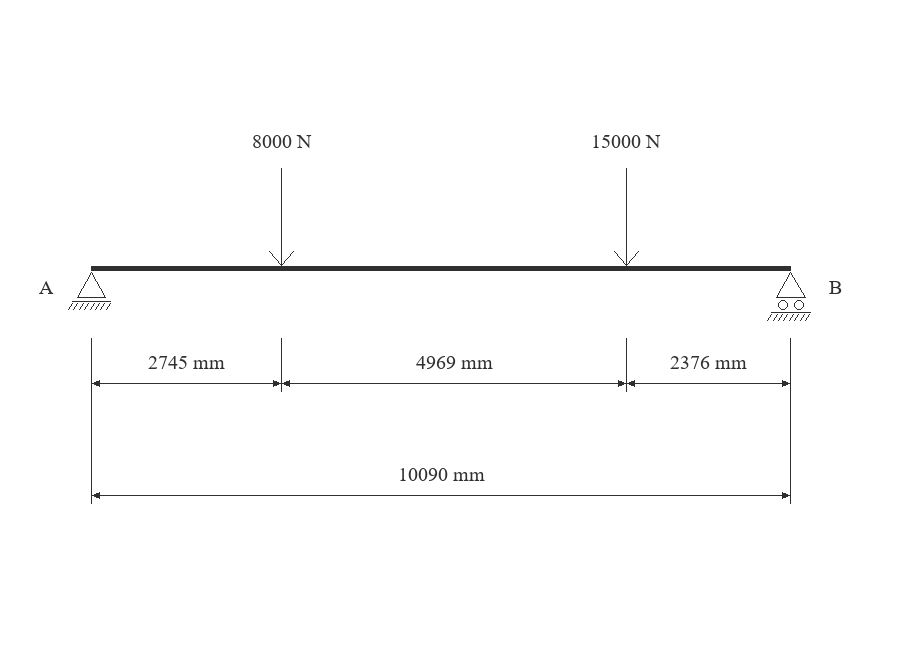pin_support: (68, 272, 111, 310)
point_load: (269, 168, 294, 266), (614, 168, 639, 266)
roller_support: (767, 272, 811, 321)
